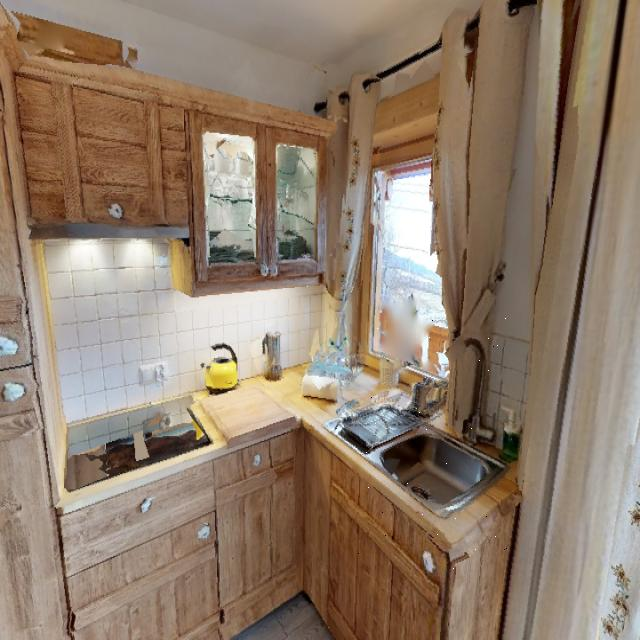sink: (356, 312, 518, 587)
